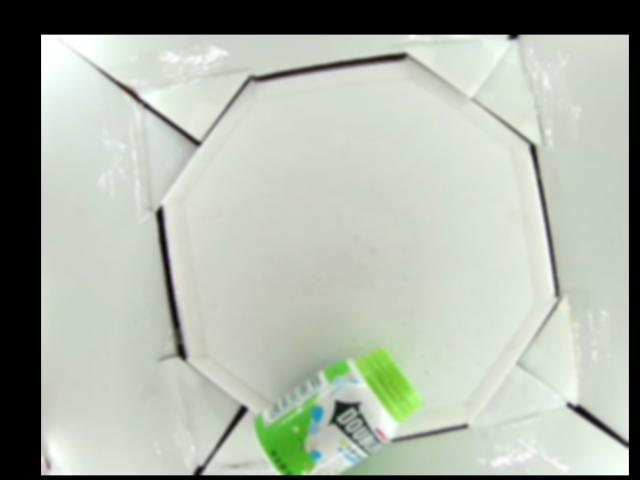Bottle: (253, 345, 424, 475)
